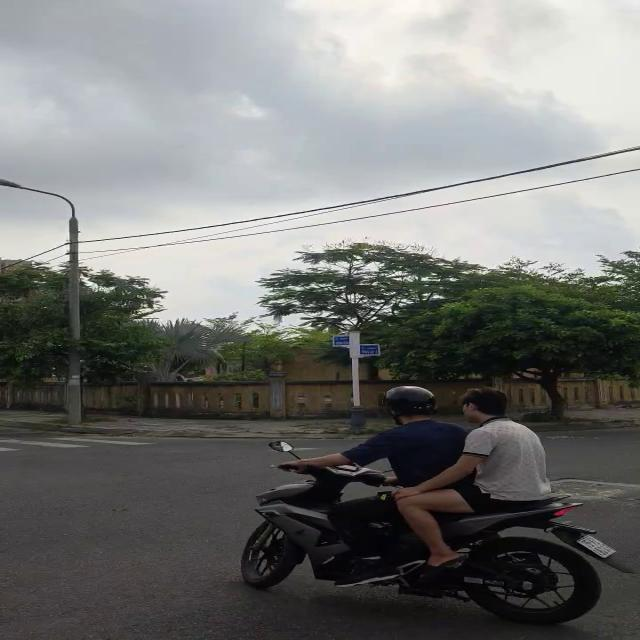with_helmet: (383, 386, 437, 424)
without_helmet: (459, 385, 514, 426)
